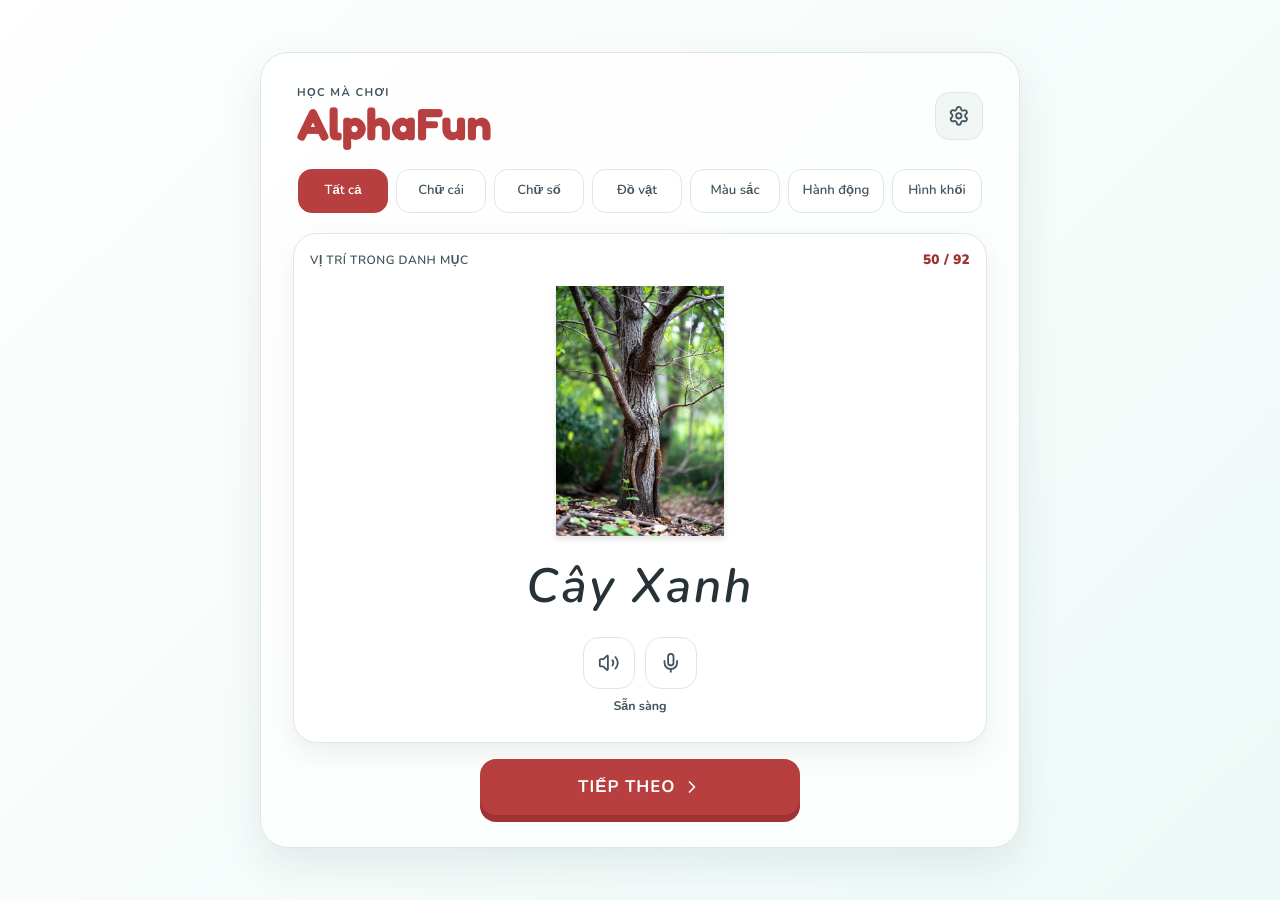
Test: App Component › shows progress for the active category and exposes settings state
Expected: the text with test id "progress" shows "/ 92", x1=923 y1=250 x2=970 y2=269
Click the button named "Mở cài đặt" at point(959, 116), box x1=935 y1=92 x2=983 y2=140
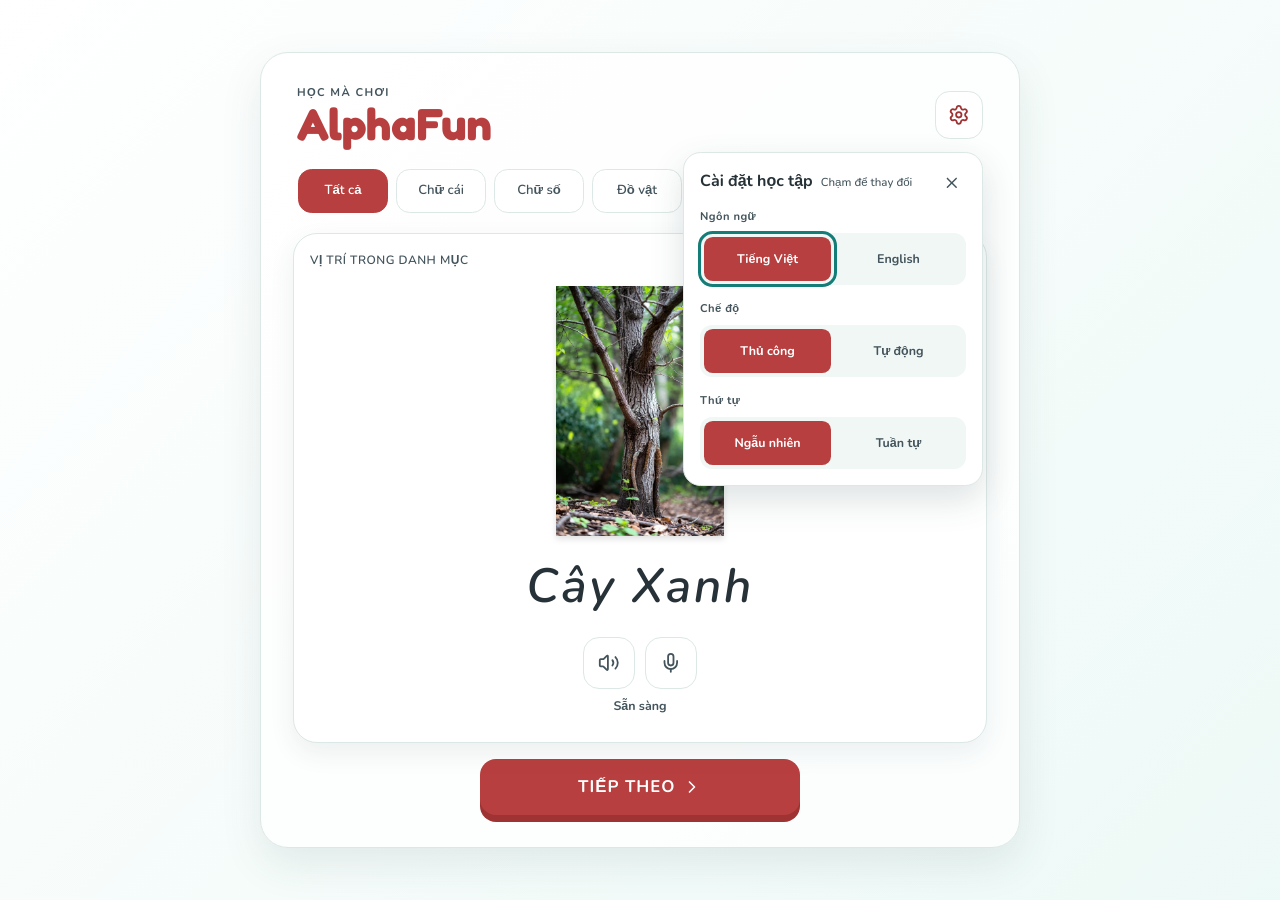
Expected: the 1st button named "Mở cài đặt" is expanded, x1=935 y1=91 x2=983 y2=139
Press Escape
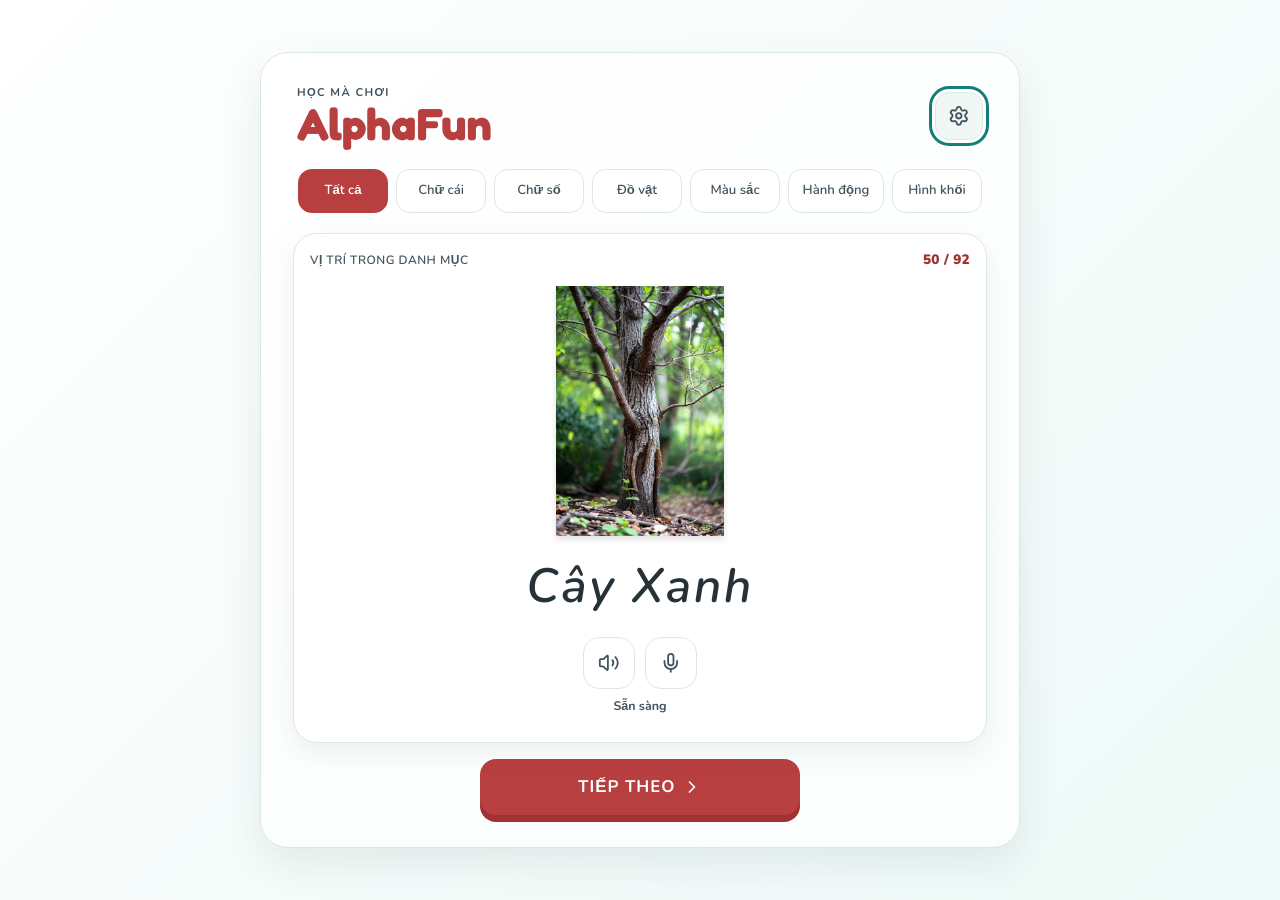
Expected: the text "Cài đặt học tập" is gone
Expected: the button named "Mở cài đặt" is collapsed, x1=935 y1=92 x2=983 y2=140
